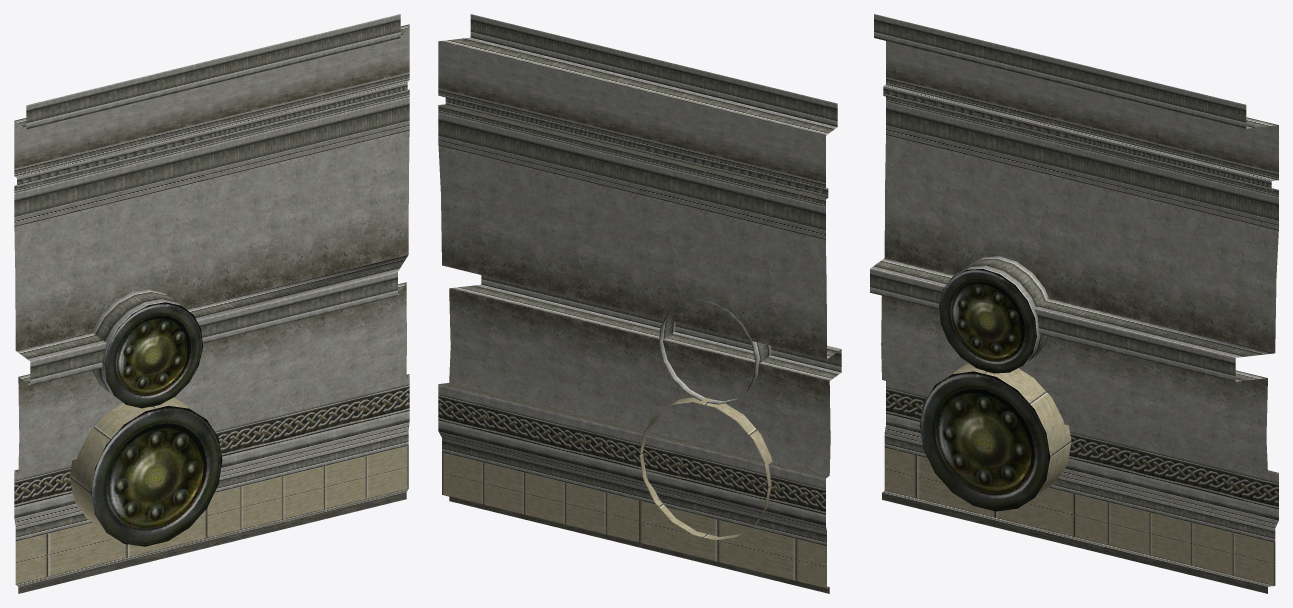
Rendered from DWARF_PALACE_GEAR_ROOM_WALL03A.fbx.
3 views of the same model, side by side, from view 1: azimuth 30°, elevation 25°; view 2: azimuth 150°, elevation 25°; view 3: azimuth 330°, elevation 25° (orthographic). The views are drawn at different scales.
Visible parts, largest first — view 1: DWARF_PALACE_GEAR_ROOM_WALL03A; view 2: DWARF_PALACE_GEAR_ROOM_WALL03A; view 3: DWARF_PALACE_GEAR_ROOM_WALL03A.
Boxes of the visible parts, left/top/right/bottom form: DWARF_PALACE_GEAR_ROOM_WALL03A: left=14, top=14, right=409, bottom=593; DWARF_PALACE_GEAR_ROOM_WALL03A: left=438, top=14, right=841, bottom=593; DWARF_PALACE_GEAR_ROOM_WALL03A: left=870, top=14, right=1278, bottom=593.
Bounding box in the file's own units: 171449 × 205000 × 18662.
Materials: 8 (8 with a texture image).
